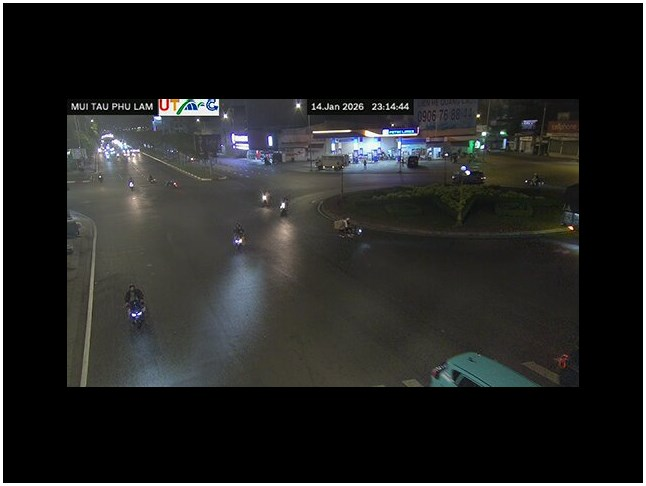car: (428, 350, 542, 386), (452, 165, 486, 184)
